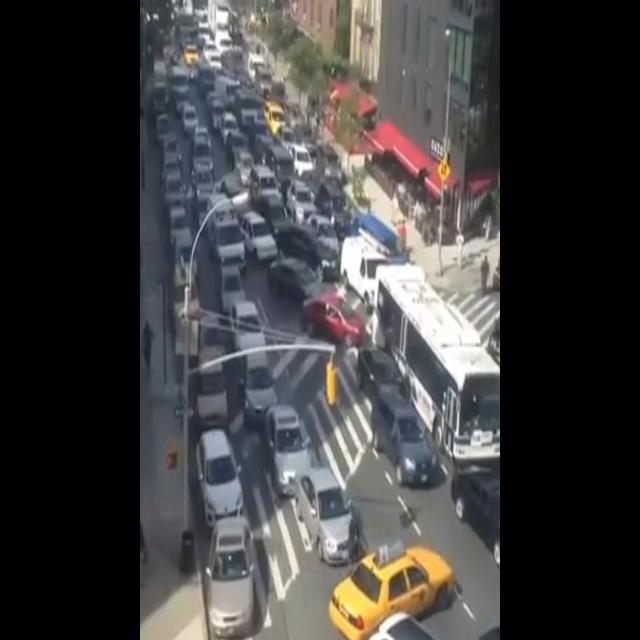Ambulance: (205, 188, 249, 272)
